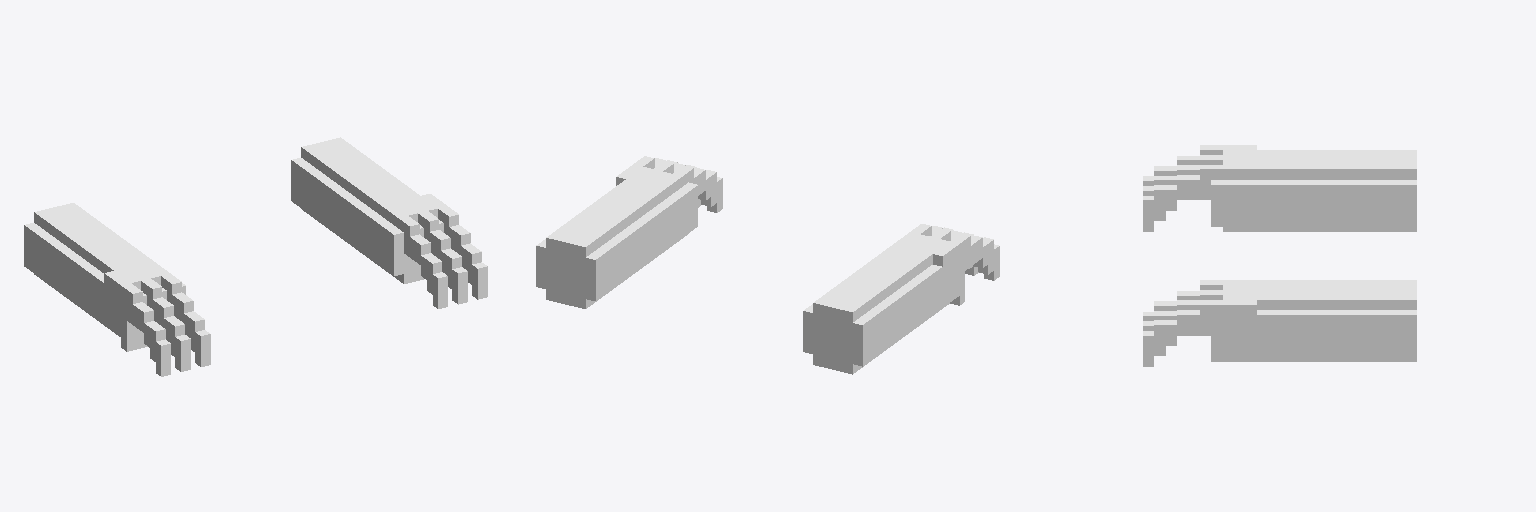
The model's file is arms2.obj.
The picture shows the model from 3 angles: view 1: azimuth 30°, elevation 25°; view 2: azimuth 150°, elevation 25°; view 3: azimuth 270°, elevation 25°; orthographic projection.
Visible parts, largest first — view 1: object 1; view 2: object 1; view 3: object 1.
Boxes of the visible parts, box(x1,y1,x2,y2) form: object 1: box(24, 137, 487, 376); object 1: box(536, 156, 999, 374); object 1: box(1143, 145, 1416, 366).
Bounding box in the file's own units: 3.3 × 0.6 × 2.4.